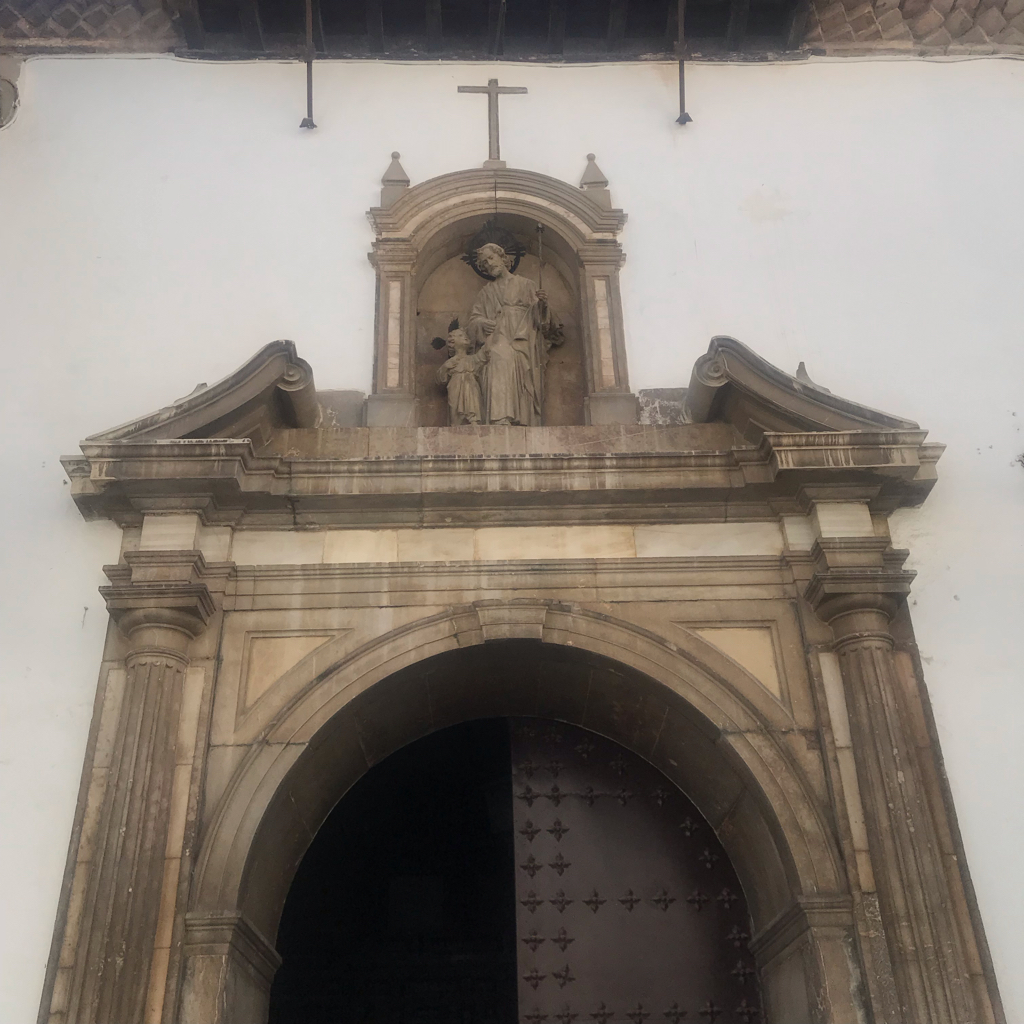arco-medio-punto: (208, 609, 832, 994), (402, 187, 600, 296)
fronton-partido: (92, 336, 909, 491)
